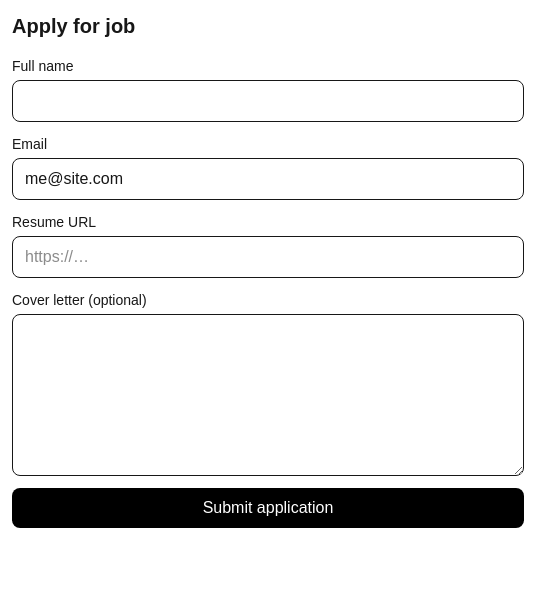
it: shows validation messages when fields are missing/invalid
The width and height of the screenshot is (541, 593).
What coordinates should you click on to do the following:
click the button "Submit application"
I would click on:
 (268, 508)
Its box is [12,488,524,528].
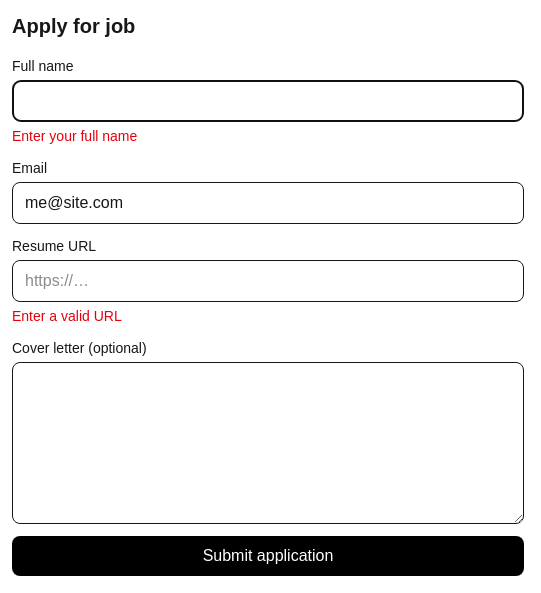
Check: the text "Enter your full name" is shown, box [12,128,137,144]
Check: the text "Enter a valid URL" is shown, box [12,308,122,324]
